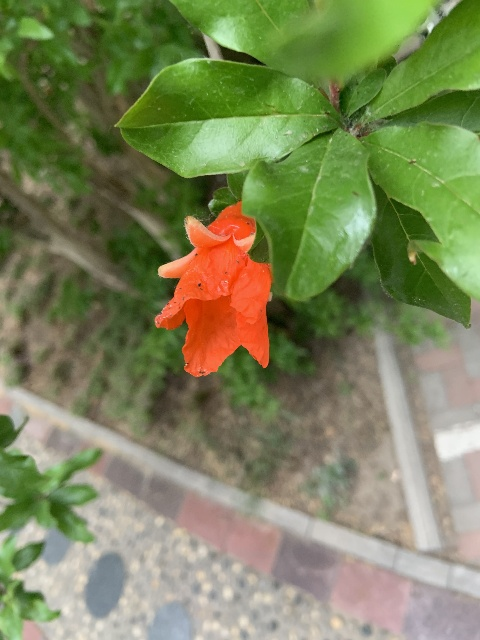flower: (154, 199, 272, 376)
